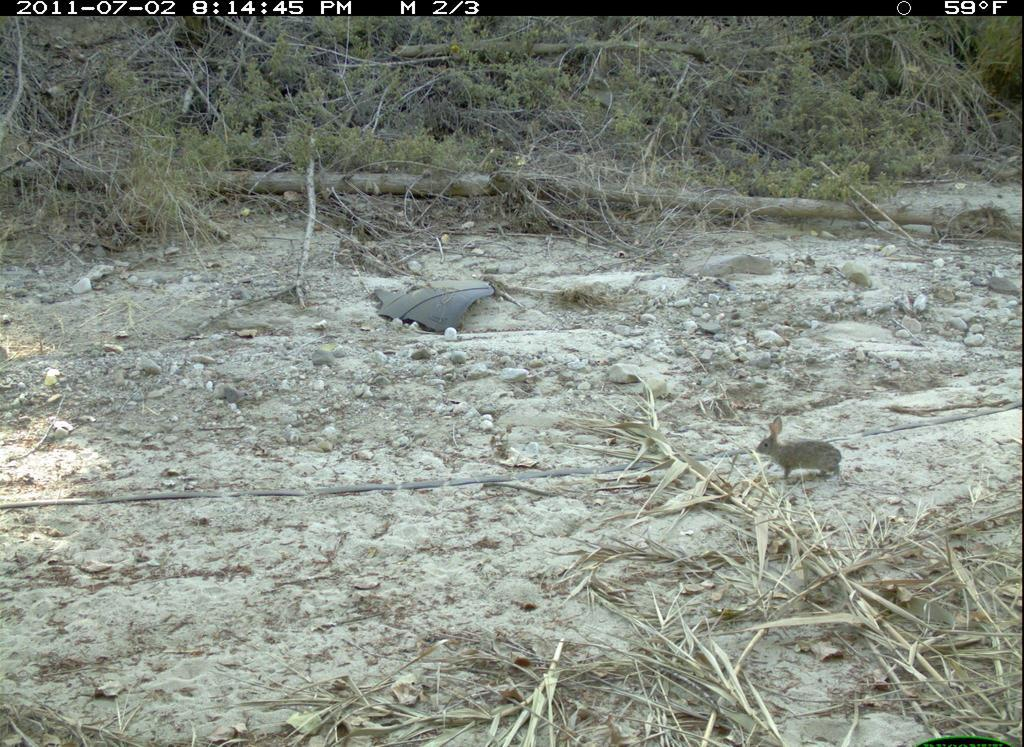rabbit: (752, 414, 848, 486)
